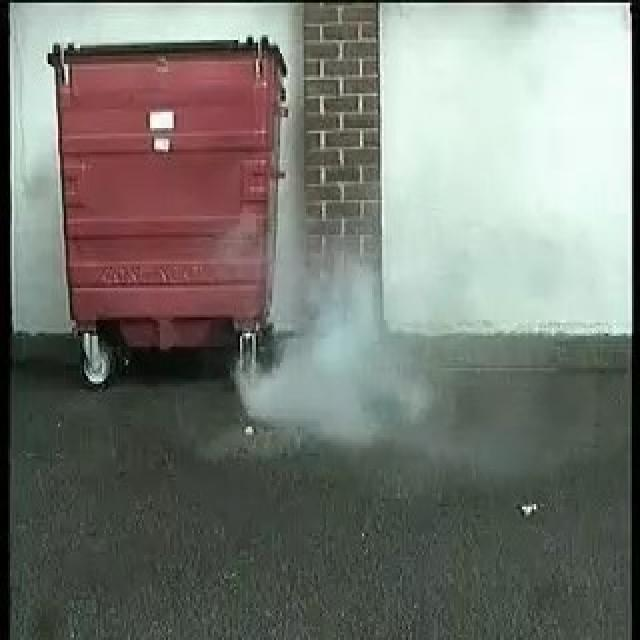smoke: (240, 250, 420, 434)
